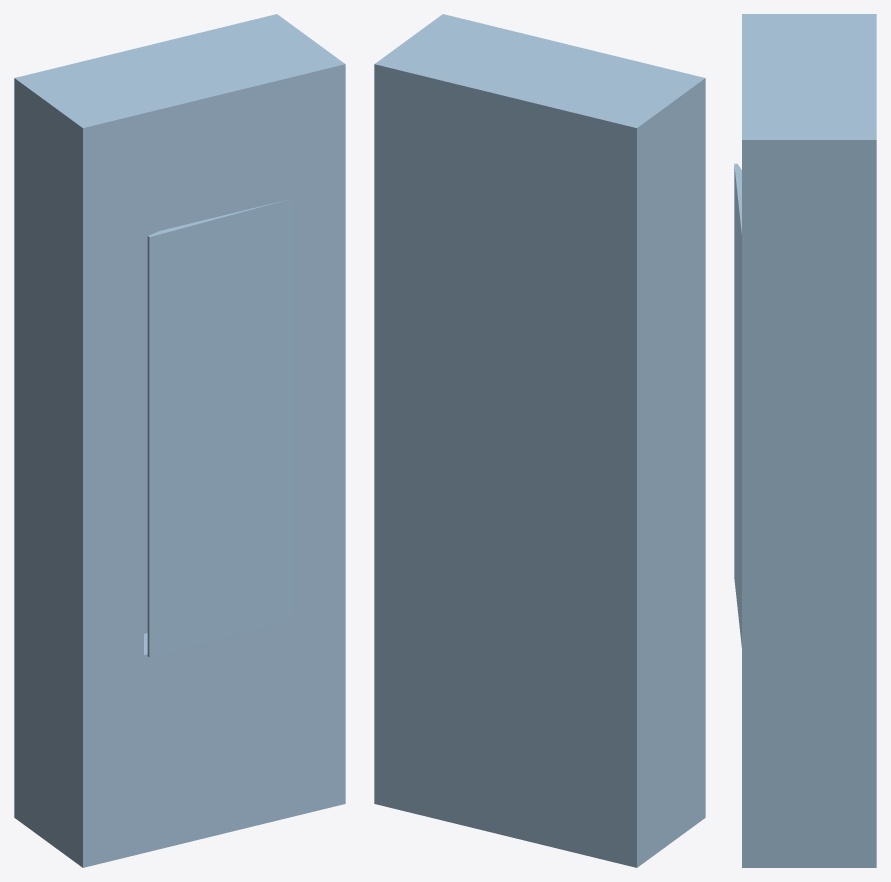
The model's file is Breaker.fbx.
3 views of the same model, side by side, from view 1: azimuth 30°, elevation 25°; view 2: azimuth 150°, elevation 25°; view 3: azimuth 270°, elevation 25° (orthographic).
Parts seen in each view (by area): view 1: Cube; view 2: Cube; view 3: Cube.
Part boxes in pixels (x1=…): Cube: x1=14, y1=14, x2=345, y2=867; Cube: x1=374, y1=14, x2=705, y2=867; Cube: x1=734, y1=14, x2=876, y2=867.
Size of the model in its own units: 78 by 210 by 37.26.
